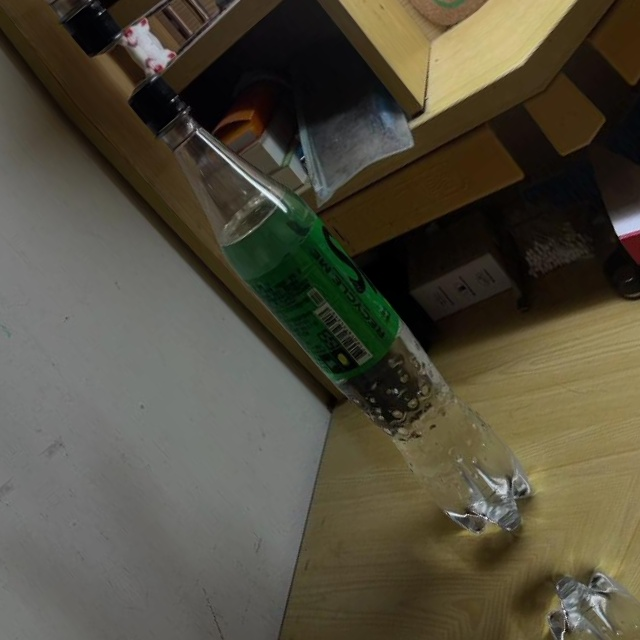Sprite: (104, 53, 557, 565)
